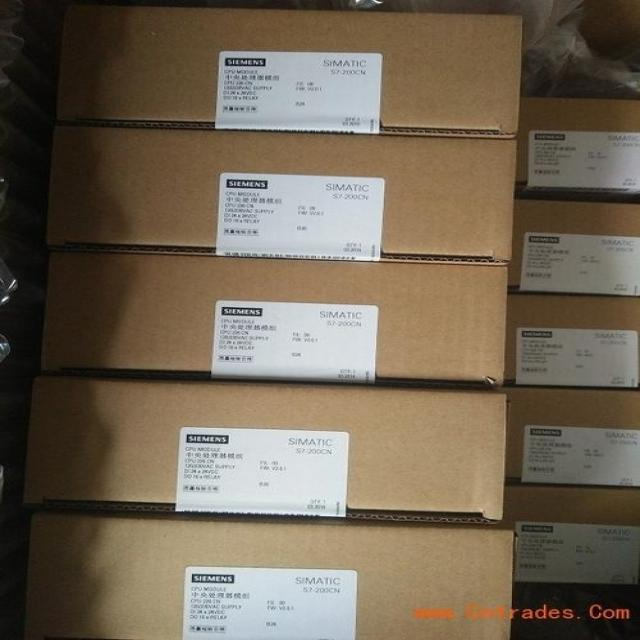box: (20, 374, 508, 527), (46, 126, 518, 265), (20, 510, 516, 640), (55, 5, 524, 140), (40, 253, 508, 388), (503, 484, 640, 585), (504, 387, 640, 488), (515, 95, 640, 202), (504, 295, 640, 391), (508, 201, 640, 296)
